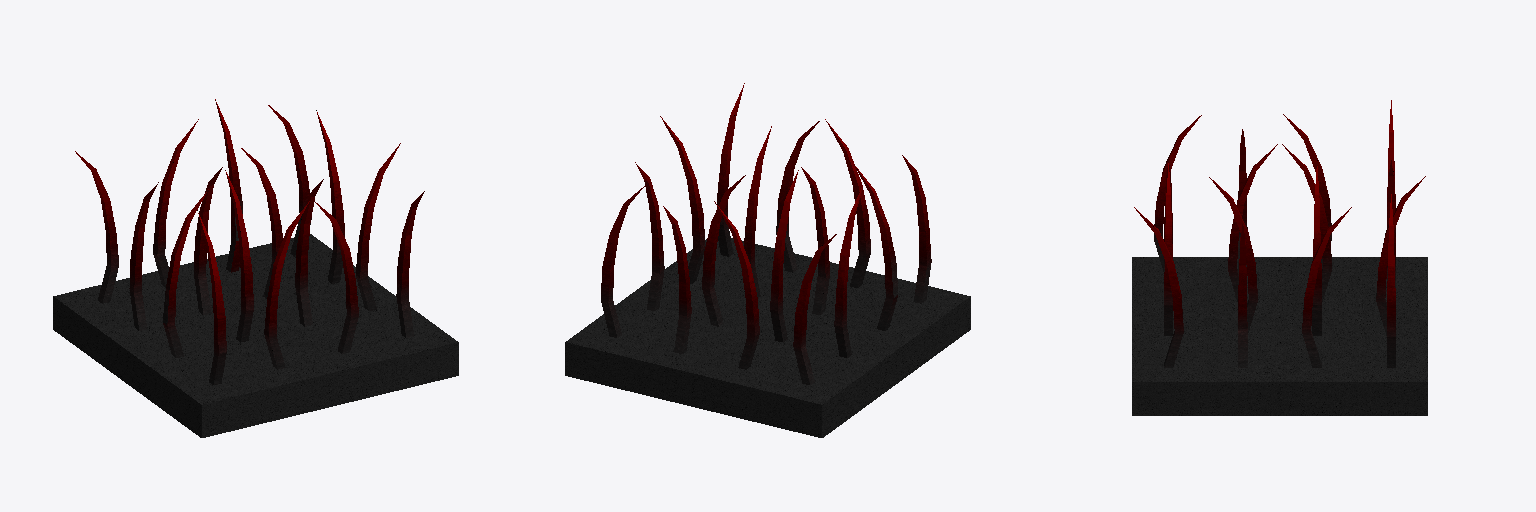
3 renders of one model, left to right at view 1: azimuth 30°, elevation 25°; view 2: azimuth 150°, elevation 25°; view 3: azimuth 270°, elevation 25°, orthographic.
Visible parts, largest first — view 1: spikes; view 2: spikes; view 3: spikes.
Boxes of the visible parts, x1,y1,x2,y2 form: spikes: [53, 99, 458, 437]; spikes: [565, 83, 970, 437]; spikes: [1132, 100, 1427, 415].
Bounding box in the file's own units: 2 × 1.44 × 2.
1 materials, 1 textured.